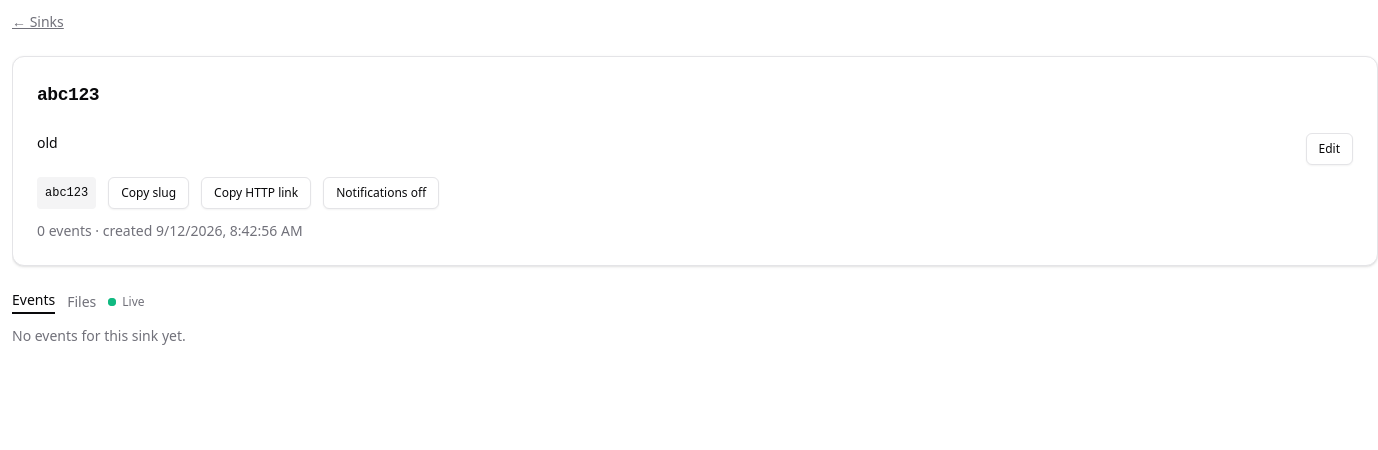
it: SinkDetail › edits the sink description
Enter edit mode, change the text, save.
Step 1. Click the button "Edit" → (1329, 149), box [1306,133,1353,165]
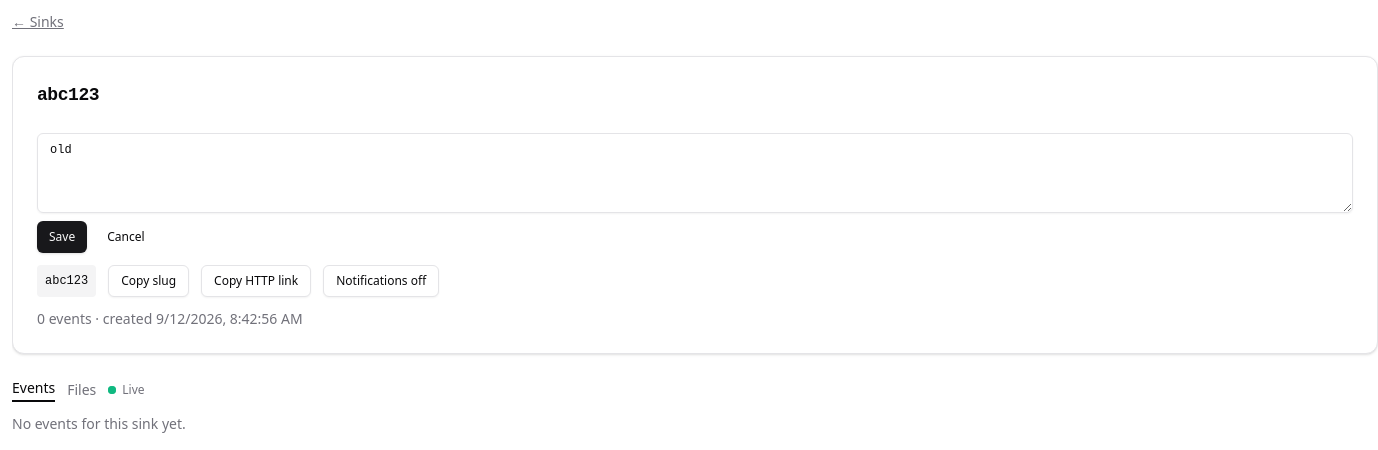
Step 2. Replace the text in the text box named "Sink description" with "updated purpose" → (695, 173), box [37,133,1353,213]
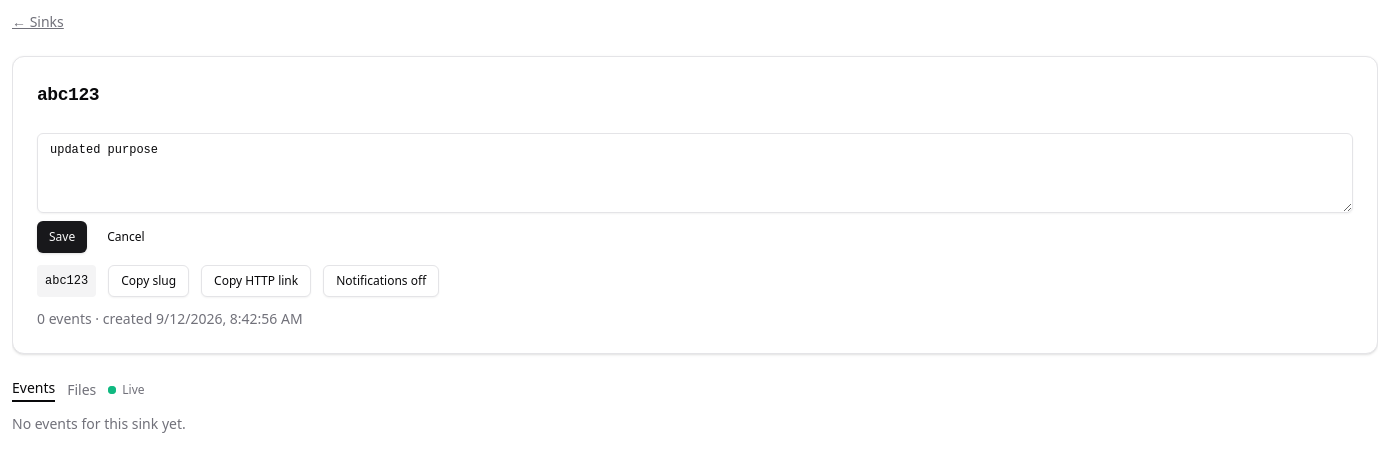
Step 3. Click the button "Save" → (62, 237), box [37,221,87,253]
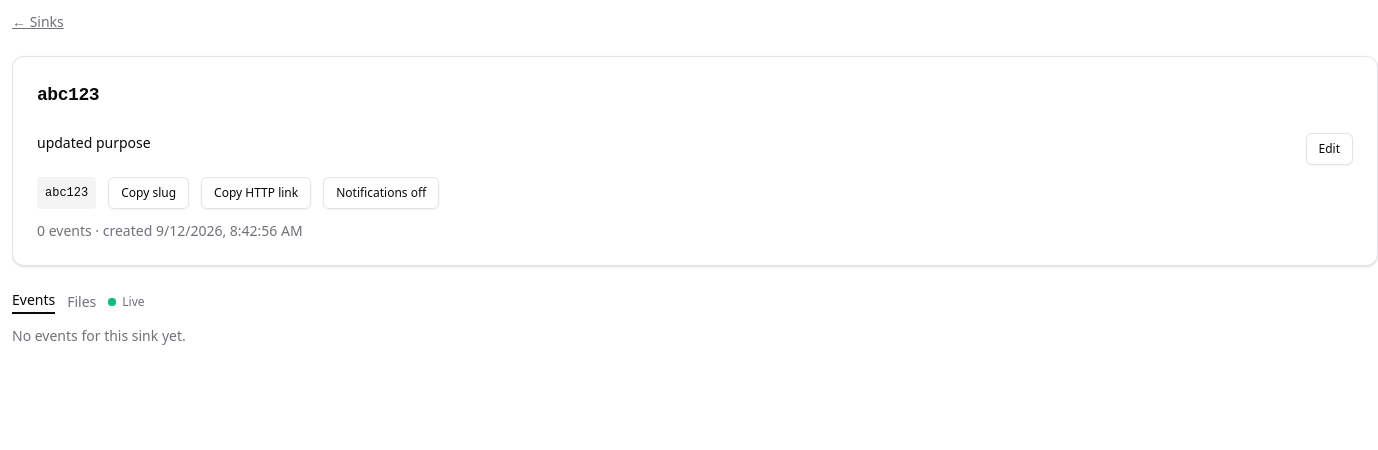
expect the text "updated purpose" is shown: met, box [37,133,151,153]
